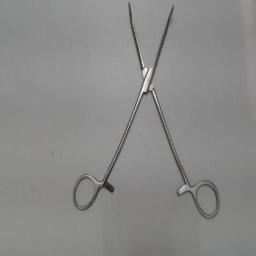Lahey Forceps: (70, 0, 222, 222)
